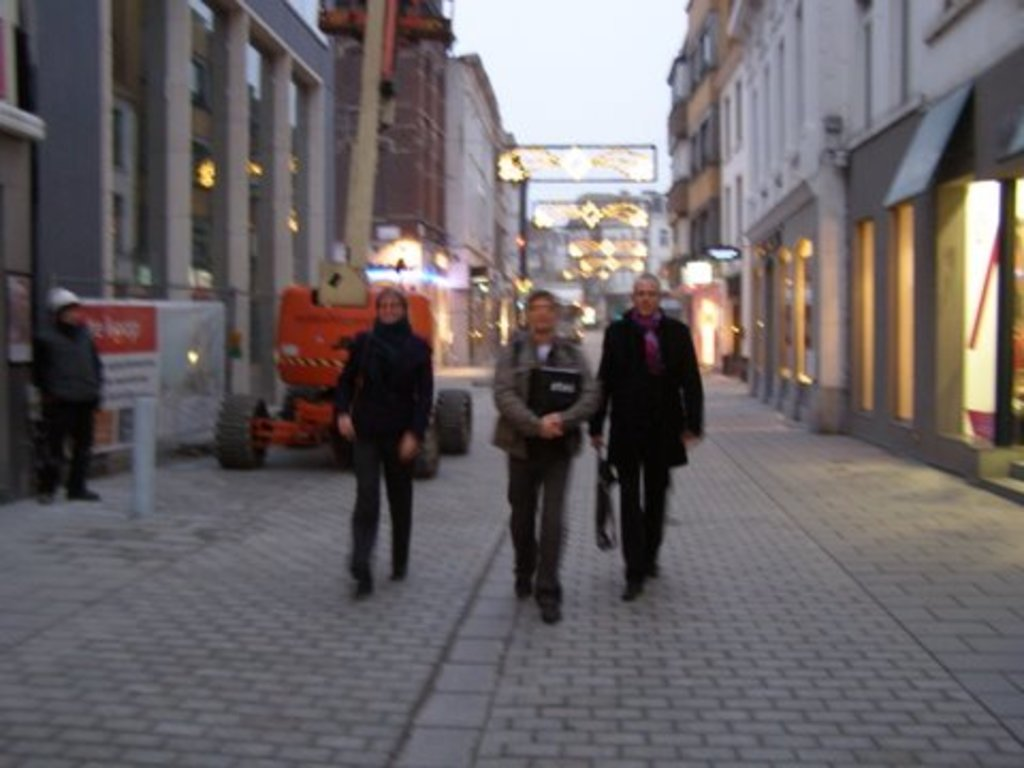Footwear: (516, 553, 535, 595), (354, 572, 371, 602), (542, 595, 559, 625), (621, 580, 640, 599), (70, 486, 98, 497), (390, 563, 407, 578), (36, 493, 51, 503)
